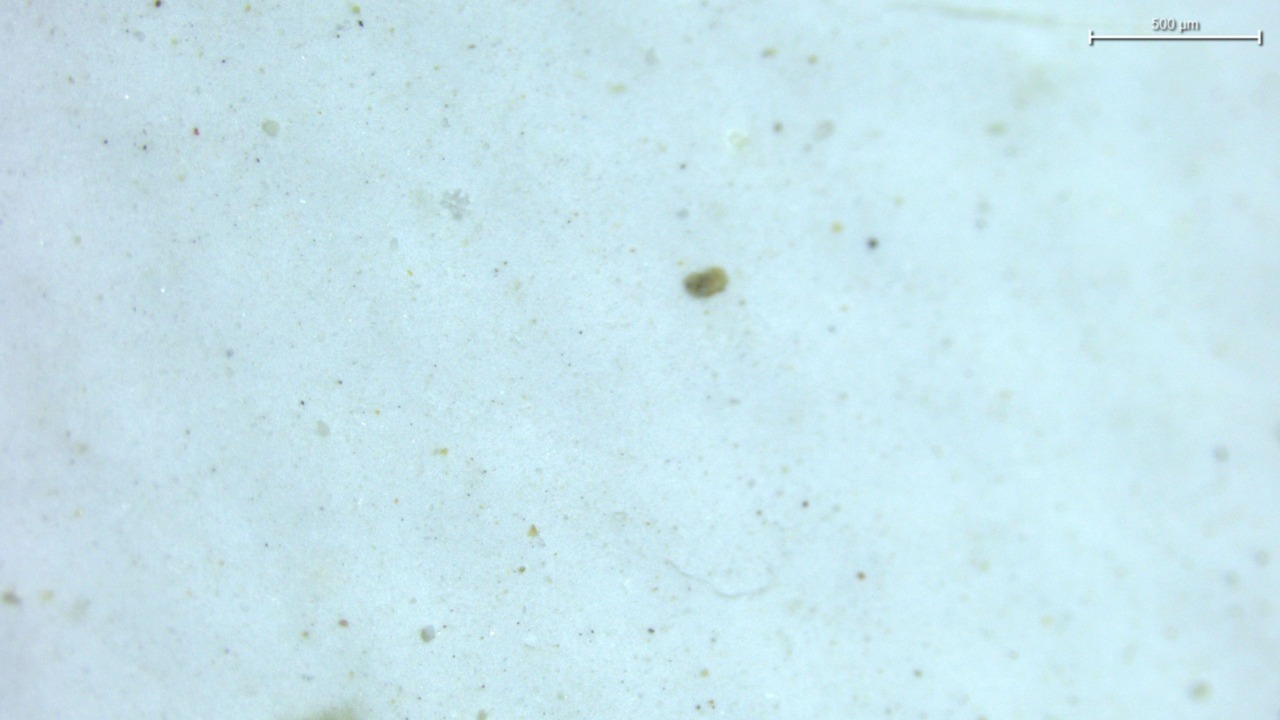microplastic_fragment: (439, 189, 469, 220)
